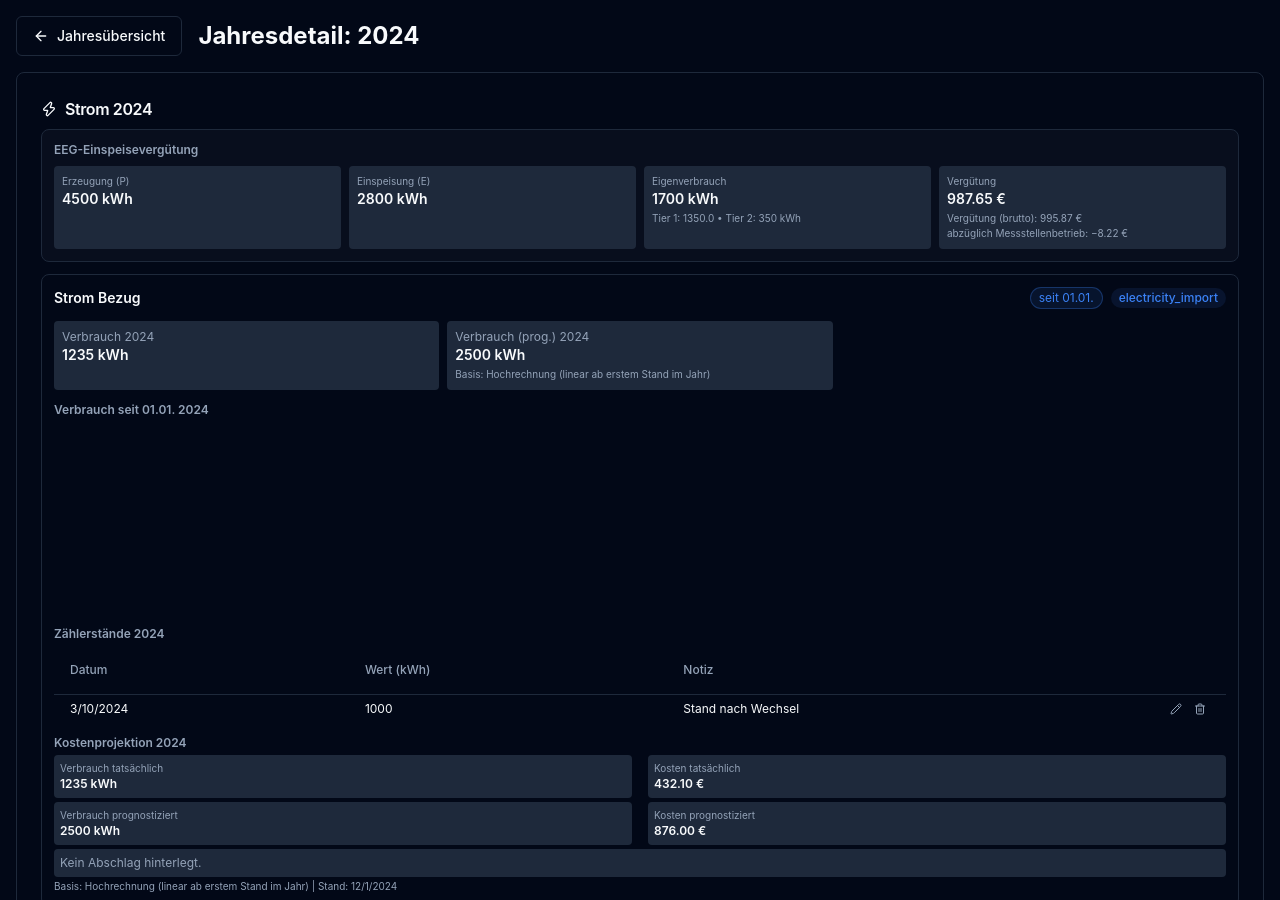
it: YearDetail › reading edit dialog › shows the backend detail message when saving fails
Expected: the heading "Jahresdetail: 2024" is shown, [198,20,420,52]
What coordinates should you click on to do the following:
click the button titled "Bearbeiten"
I would click on:
 (1176, 708)
Its box is [1166,698,1186,718].
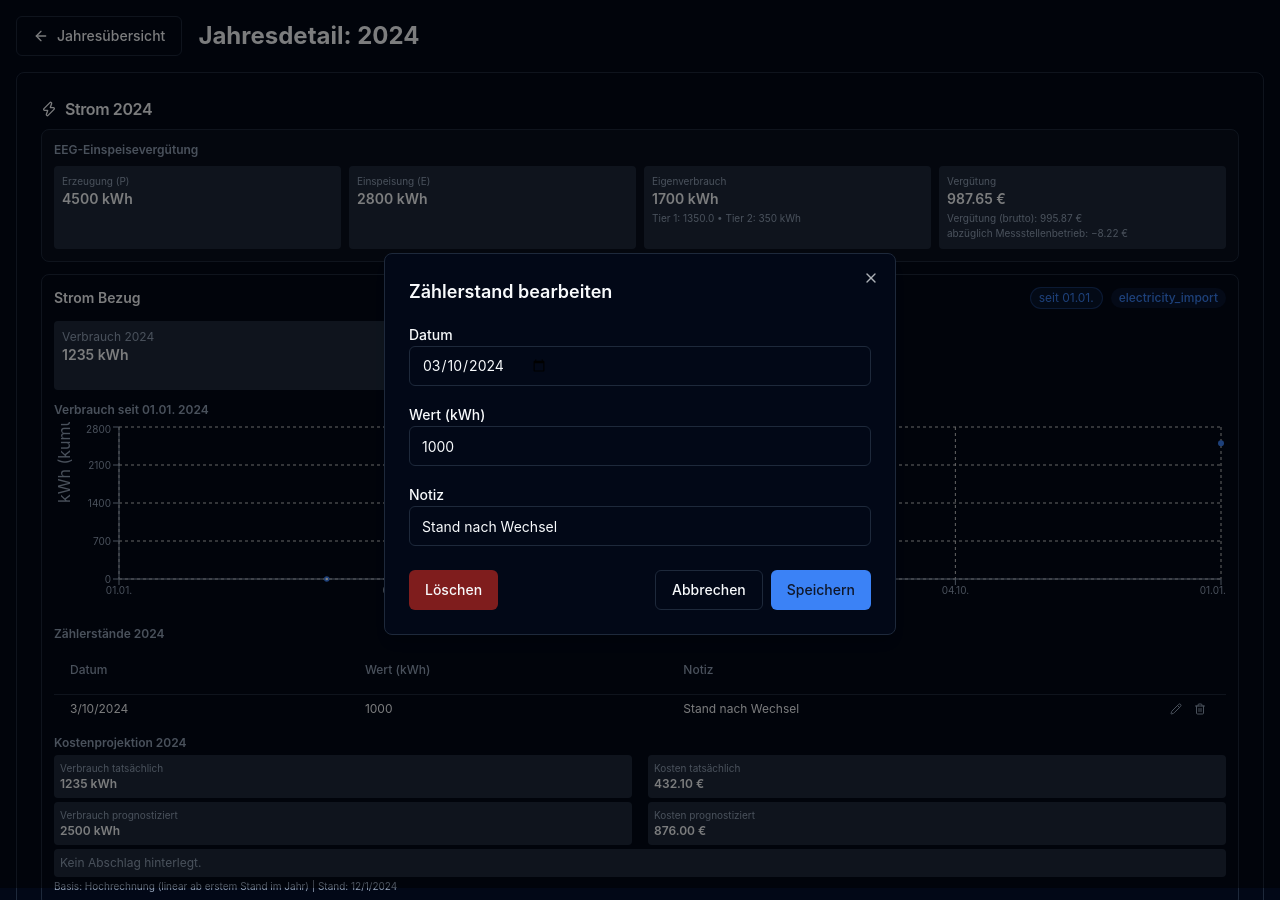
Expected: the heading "Zählerstand bearbeiten" is shown, [409,281,612,302]
What coordinates should you click on to do the following:
click the button "Speichern"
I would click on:
 (821, 590)
Its box is [771,570,871,610].
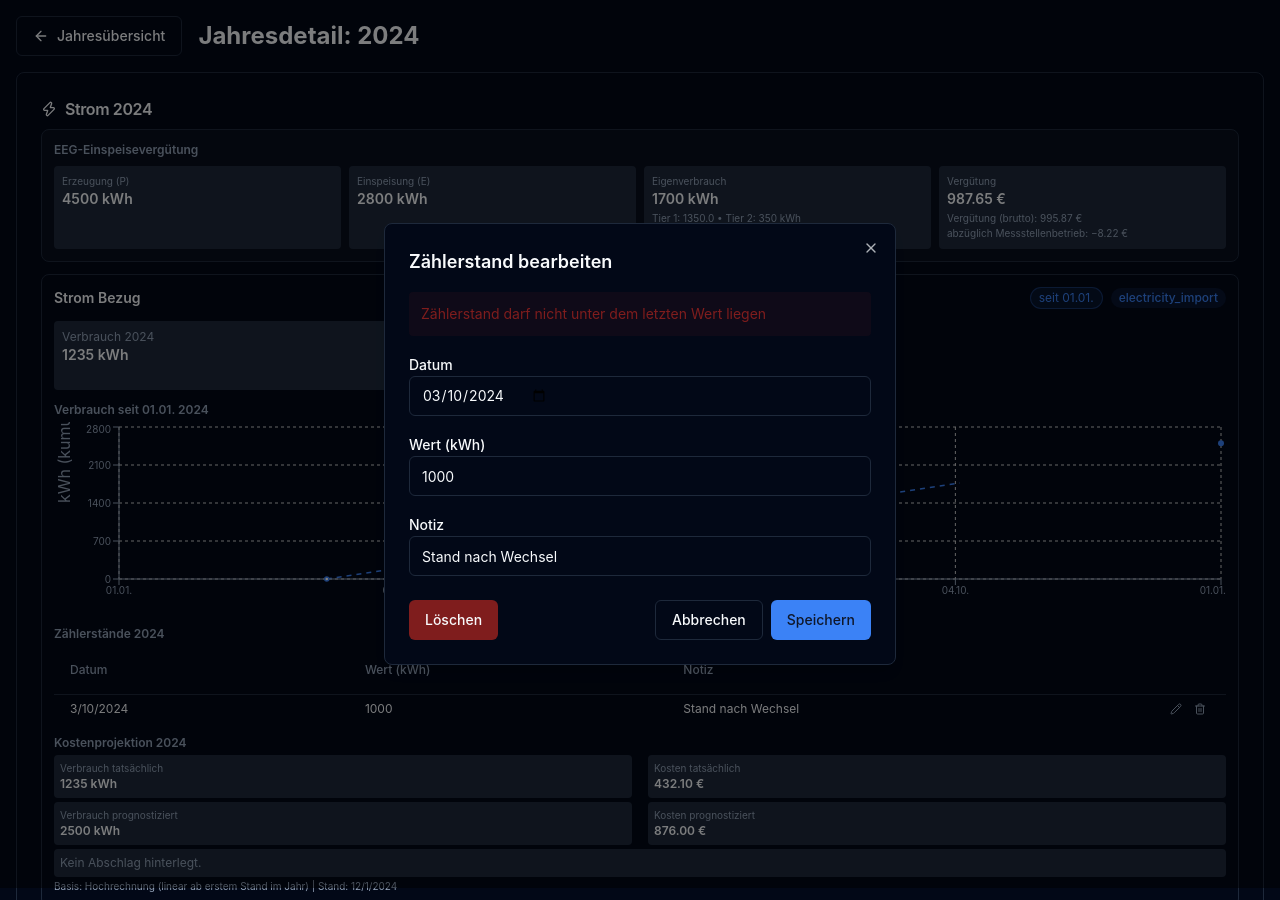
Expected: the heading "Zählerstand bearbeiten" is shown, [409,251,612,272]
Expected: the text "Zählerstand darf nicht unter dem letzten Wert liegen" is shown, [409,292,871,336]
